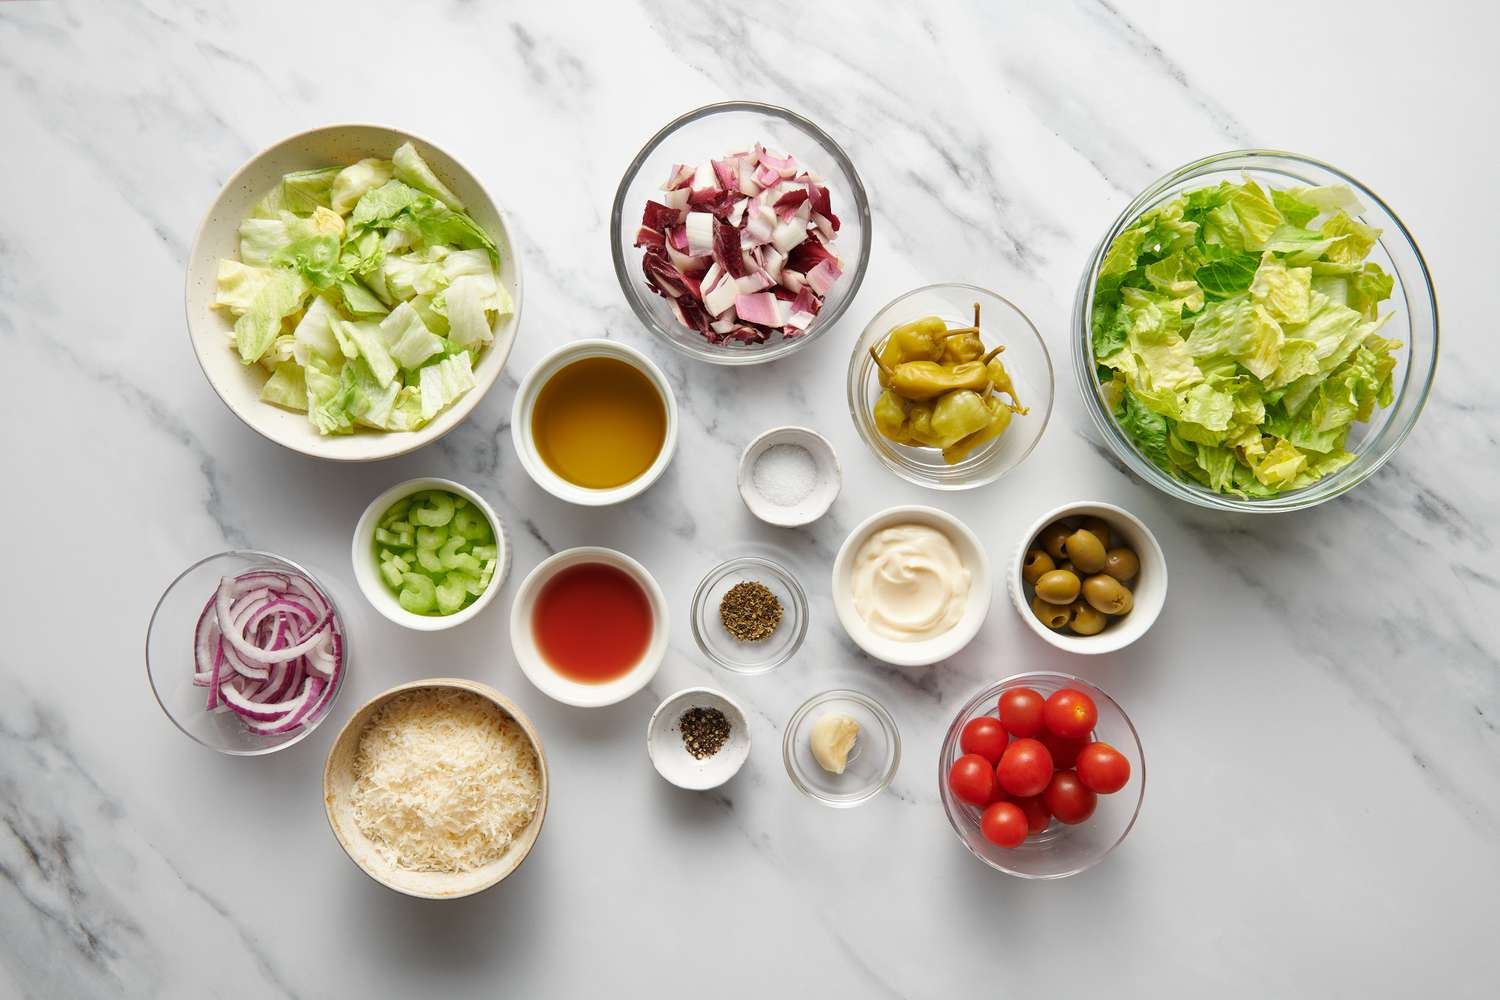Chili: (859, 342, 994, 394), (864, 316, 955, 368), (908, 390, 993, 440)
Lettuce: (1065, 163, 1430, 525), (191, 129, 526, 456)
Tomato: (1067, 733, 1136, 801), (991, 737, 1058, 801), (1039, 683, 1104, 746), (943, 751, 1006, 811), (1041, 766, 1104, 823), (993, 684, 1052, 743), (977, 796, 1037, 854), (958, 712, 1015, 766)
